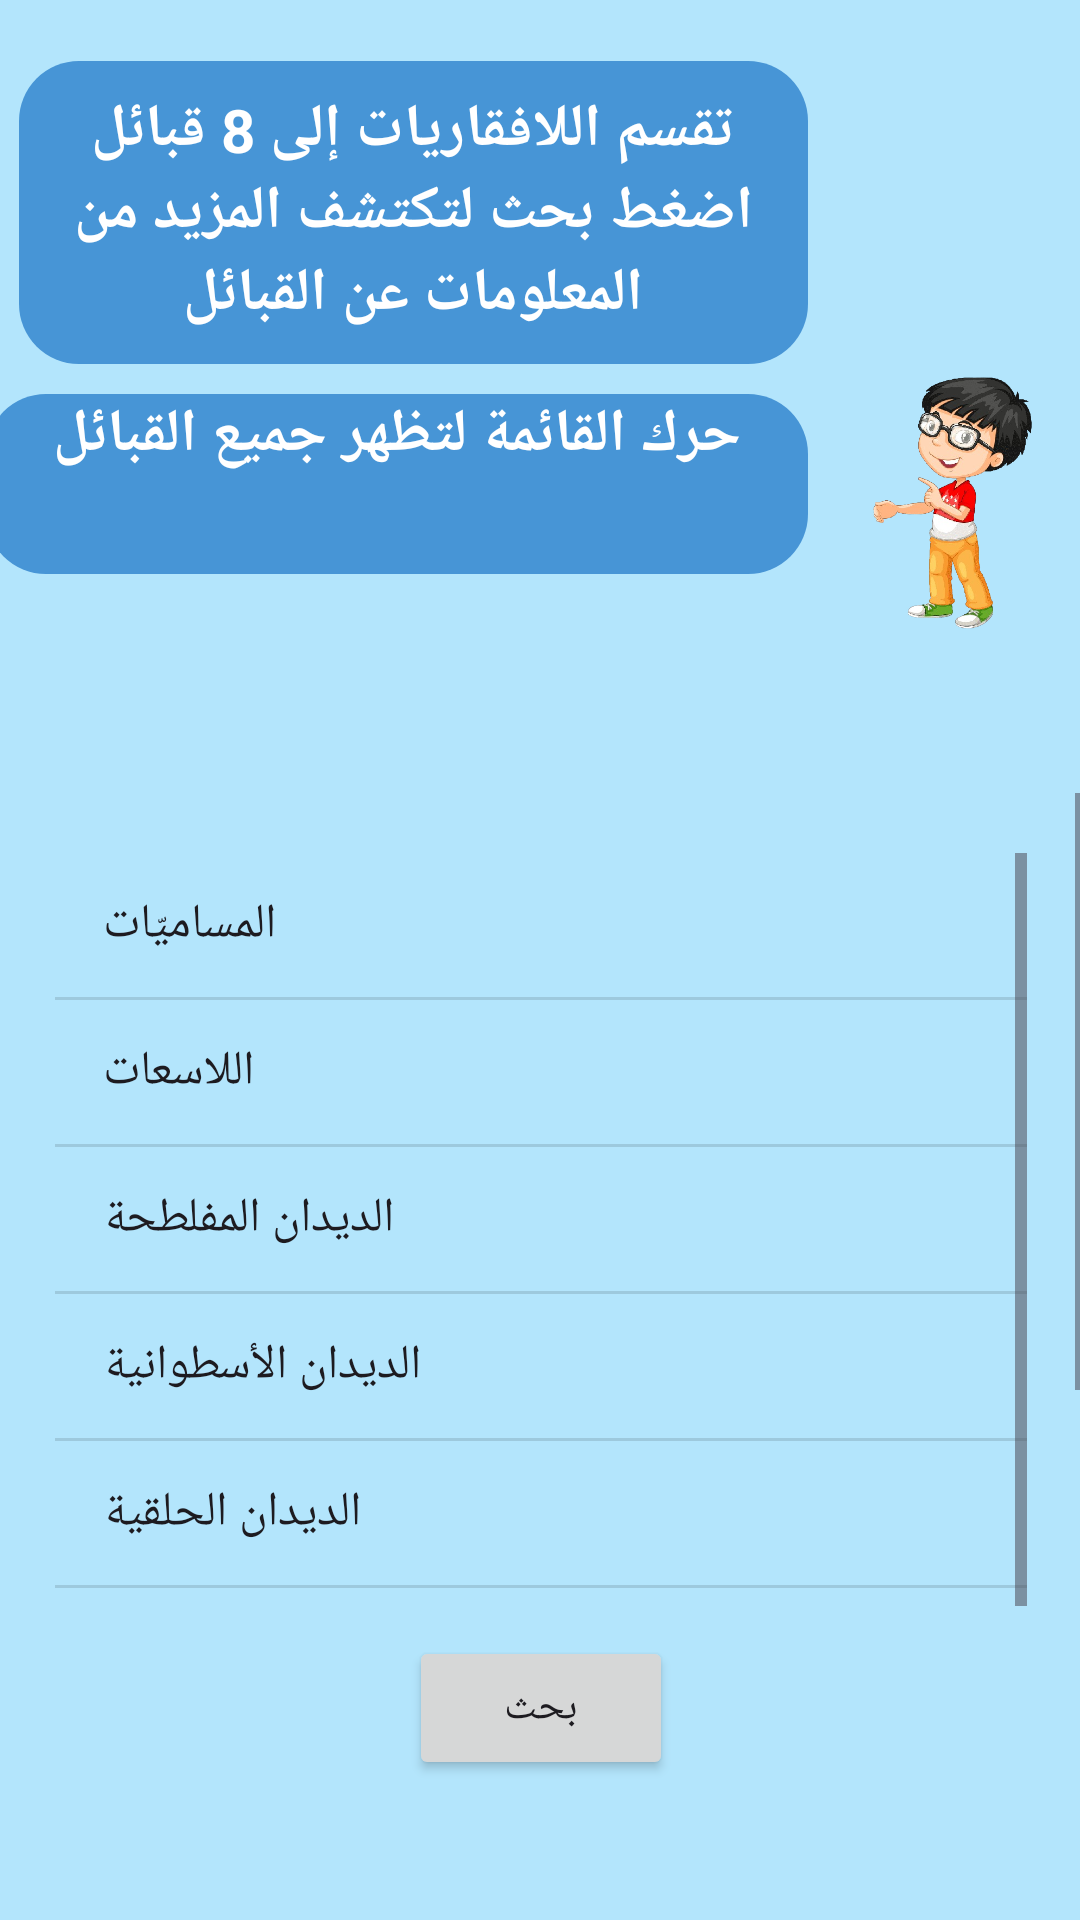

Named icons in this screenshot (1080px×1920px) and their bounding boxes, bbox=[x1, y1, x2, y2]:
boy: bbox=[873, 377, 1032, 628]
